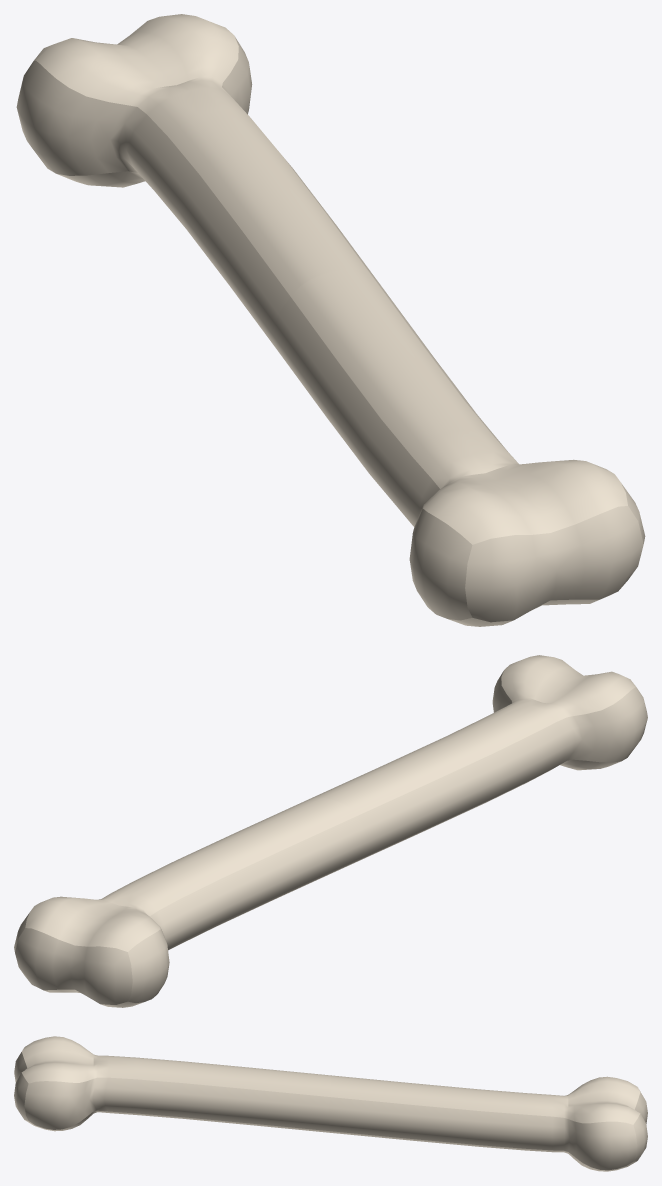
File: Bone_Textured.fbx
The picture shows the model from 3 angles, top to bottom: view 1: azimuth 30°, elevation 25°; view 2: azimuth 150°, elevation 25°; view 3: azimuth 270°, elevation 25°; orthographic projection. The views are drawn at different scales.
Parts seen in each view (by area): view 1: pCube4.001; view 2: pCube4.001; view 3: pCube4.001.
Part boxes in pixels (x1,y1,x2,y2): pCube4.001: (16, 14, 645, 626); pCube4.001: (14, 655, 647, 1007); pCube4.001: (14, 1036, 647, 1171).
Bounding box in the file's own units: 185 × 59.22 × 535.
